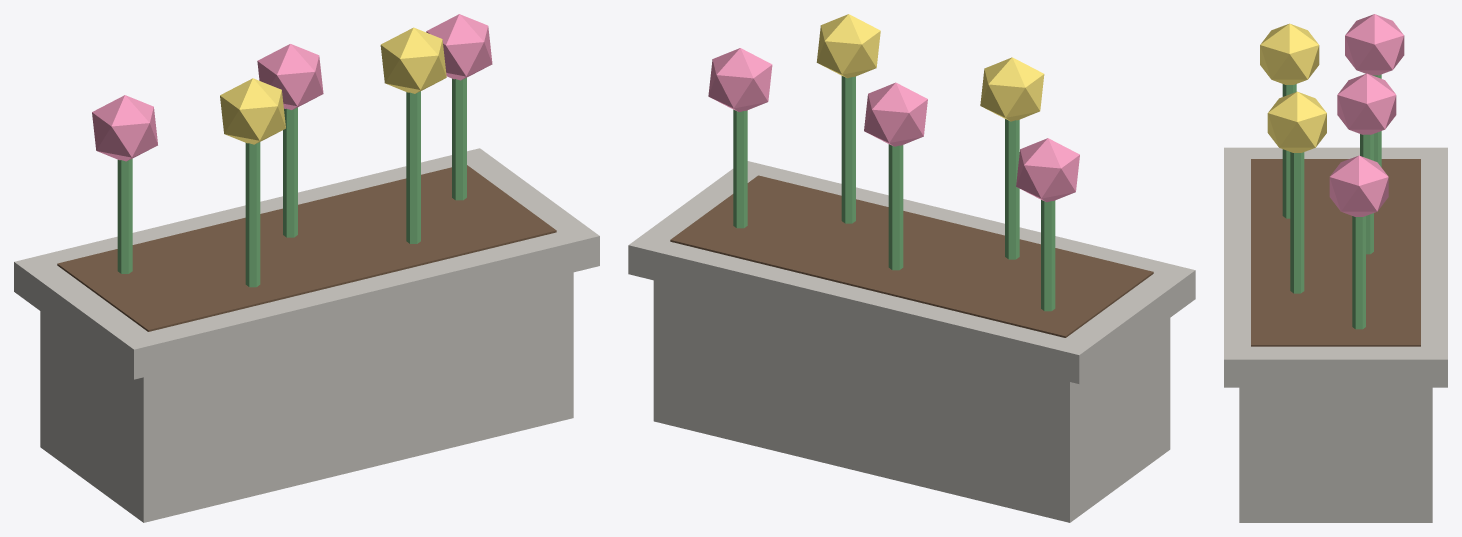
Rendered from th3_blumenkuebel.glb.
The picture shows the model from 3 angles, left to right: view 1: azimuth 30°, elevation 25°; view 2: azimuth 150°, elevation 25°; view 3: azimuth 270°, elevation 25°; orthographic projection. The views are drawn at different scales.
Parts seen in each view (by area): view 1: Blumenkuebel; view 2: Blumenkuebel; view 3: Blumenkuebel.
Part boxes in pixels (left/top/right/bottom): Blumenkuebel: left=14, top=14, right=599, bottom=522; Blumenkuebel: left=628, top=14, right=1195, bottom=522; Blumenkuebel: left=1224, top=14, right=1447, bottom=522.
Size of the model in its own units: 1.3 by 1.07 by 0.58.
